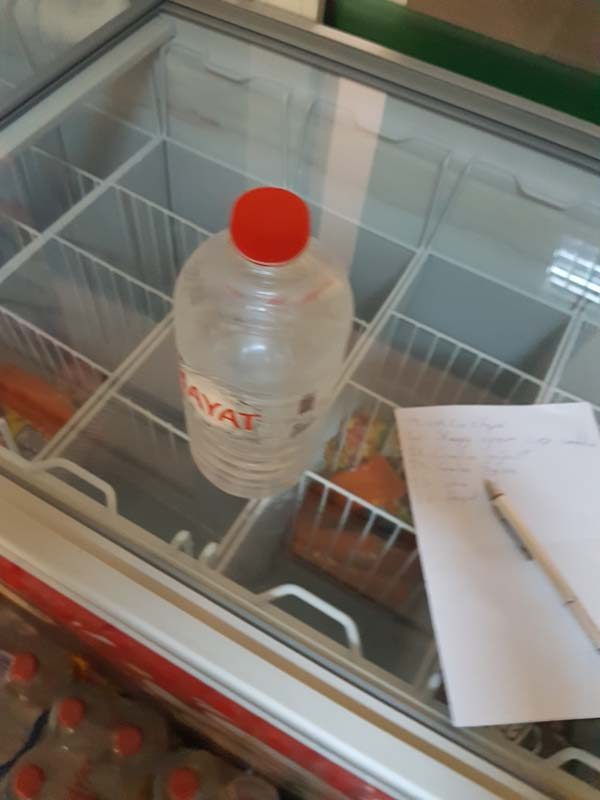saka500mlsu: (167, 185, 356, 504)
